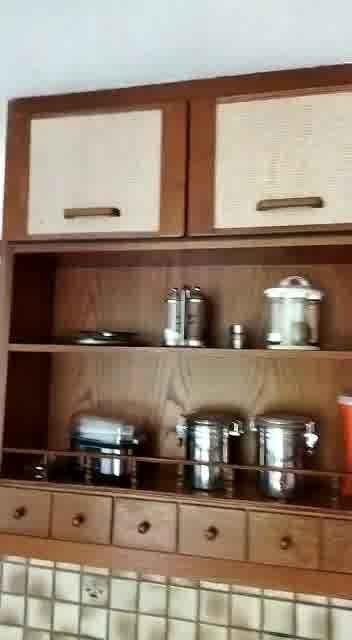cabinet_door: (5, 102, 187, 240), (186, 88, 350, 238), (251, 519, 352, 581), (180, 508, 246, 563), (118, 497, 176, 550), (53, 492, 112, 541), (0, 490, 50, 536)
handle: (256, 184, 328, 219), (60, 194, 122, 228), (202, 520, 222, 548), (279, 530, 297, 556), (70, 511, 88, 535), (11, 502, 29, 523), (137, 518, 154, 540)
